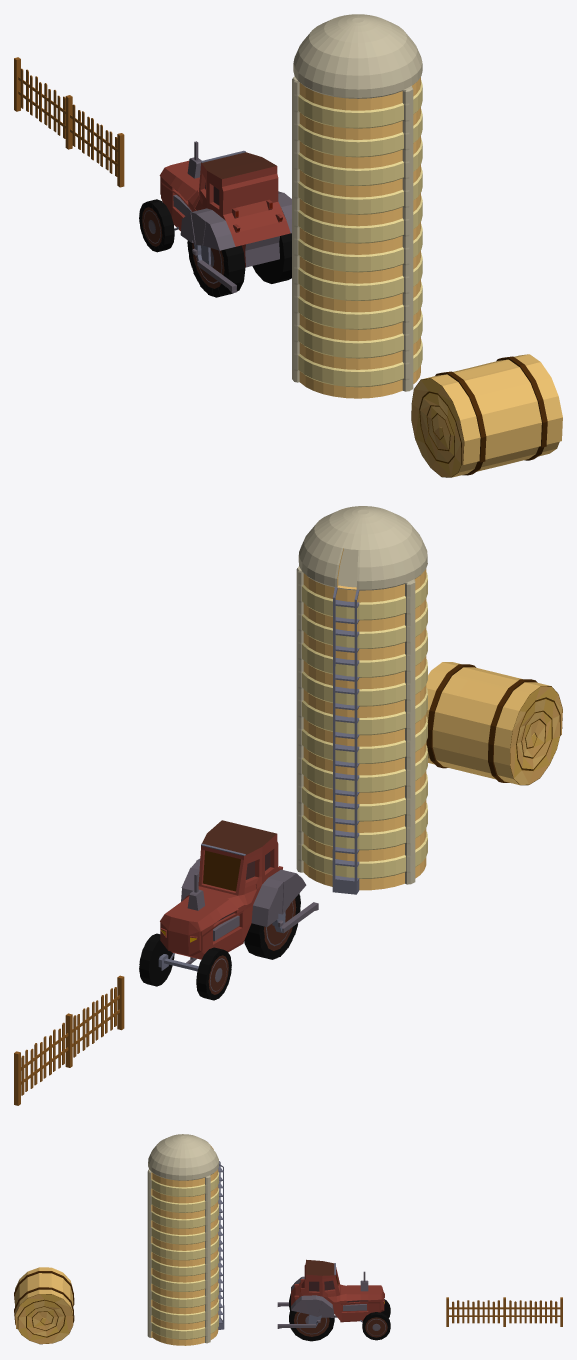
Rendered from moorgame props 2.0.fbx.
The picture shows the model from 3 angles, top to bottom: view 1: azimuth 30°, elevation 25°; view 2: azimuth 150°, elevation 25°; view 3: azimuth 270°, elevation 25°; orthographic projection. The views are drawn at different scales.
Visible parts, largest first — view 1: Zylinder.002, Zylinder.025, Zylinder.023, Würfel.005; view 2: Zylinder.002, Zylinder.025, Zylinder.023, Würfel.005; view 3: Zylinder.002, Zylinder.025, Zylinder.023, Würfel.005.
Boxes of the visible parts, bbox=[...] form: Zylinder.002: bbox=[292, 14, 422, 398]; Zylinder.025: bbox=[139, 141, 291, 297]; Zylinder.023: bbox=[411, 354, 562, 477]; Würfel.005: bbox=[14, 57, 124, 187]; Zylinder.002: bbox=[296, 506, 427, 894]; Zylinder.025: bbox=[139, 820, 318, 1000]; Zylinder.023: bbox=[426, 662, 562, 785]; Würfel.005: bbox=[14, 975, 124, 1105]; Zylinder.002: bbox=[147, 1134, 224, 1345]; Zylinder.025: bbox=[277, 1259, 390, 1341]; Zylinder.023: bbox=[14, 1267, 74, 1344]; Würfel.005: bbox=[446, 1297, 562, 1326].
Bounding box in the file's own units: 129 × 380 × 976.
